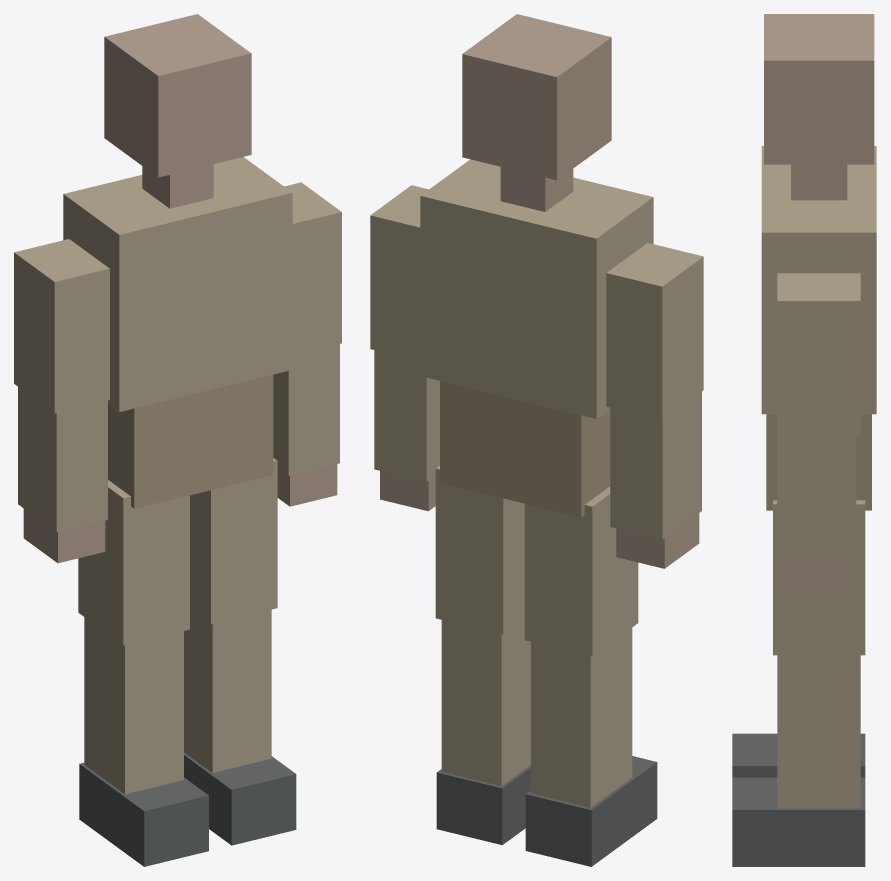
The model's file is FRONTLINE_Soviet_Khaki_Block_Soldier.glb.
3 renders of one model, left to right at view 1: azimuth 30°, elevation 25°; view 2: azimuth 150°, elevation 25°; view 3: azimuth 270°, elevation 25°, orthographic. The views are drawn at different scales.
Parts seen in each view (by area): view 1: Chest_Torso_Block, Square_Head, Pelvis_Torso_Block, L_LowerLeg, L_UpperArm, L_Thigh, R_LowerLeg, R_Thigh, L_Forearm, L_Boot, R_UpperArm, R_Forearm (+4 smaller); view 2: Chest_Torso_Block, Square_Head, Pelvis_Torso_Block, L_LowerLeg, L_UpperArm, L_Thigh, R_LowerLeg, R_Thigh, L_Forearm, L_Boot, R_UpperArm, R_Forearm (+4 smaller); view 3: Square_Head, Chest_Torso_Block, R_UpperArm, R_LowerLeg, R_Forearm, R_Boot, R_Thigh, Pelvis_Torso_Block, L_Boot, R_Hand, Neck_Block.
Part boxes in pixels (<box>): Chest_Torso_Block: <box>63,157,292,411</box>; Square_Head: <box>104,14,251,177</box>; Pelvis_Torso_Block: <box>108,374,273,508</box>; L_LowerLeg: <box>84,617,183,794</box>; L_UpperArm: <box>14,239,109,413</box>; L_Thigh: <box>78,480,189,645</box>; R_LowerLeg: <box>184,609,271,772</box>; R_Thigh: <box>190,458,277,624</box>; L_Forearm: <box>18,387,107,532</box>; L_Boot: <box>79,762,208,866</box>; R_UpperArm: <box>284,182,341,355</box>; R_Forearm: <box>273,344,339,475</box>; Chest_Torso_Block: <box>420,159,653,418</box>; Square_Head: <box>462,14,611,180</box>; Pelvis_Torso_Block: <box>440,381,610,517</box>; L_LowerLeg: <box>531,628,632,807</box>; L_UpperArm: <box>606,243,703,420</box>; L_Thigh: <box>524,486,638,656</box>; R_LowerLeg: <box>441,619,530,785</box>; R_Thigh: <box>435,465,524,634</box>; L_Forearm: <box>610,391,701,539</box>; L_Boot: <box>525,756,657,866</box>; R_UpperArm: <box>370,185,428,360</box>; R_Forearm: <box>374,350,439,481</box>; Square_Head: <box>764,14,874,164</box>; Chest_Torso_Block: <box>761,146,876,414</box>; R_UpperArm: <box>777,273,860,435</box>; R_LowerLeg: <box>777,655,860,808</box>; R_Forearm: <box>777,435,856,556</box>; R_Boot: <box>732,777,865,866</box>; R_Thigh: <box>773,500,865,655</box>; Pelvis_Torso_Block: <box>766,414,871,510</box>; L_Boot: <box>732,733,865,777</box>; R_Hand: <box>779,557,848,588</box>; Neck_Block: <box>791,164,847,200</box>.
Size of the model in its own units: 0.755 by 1.94 by 0.32.
